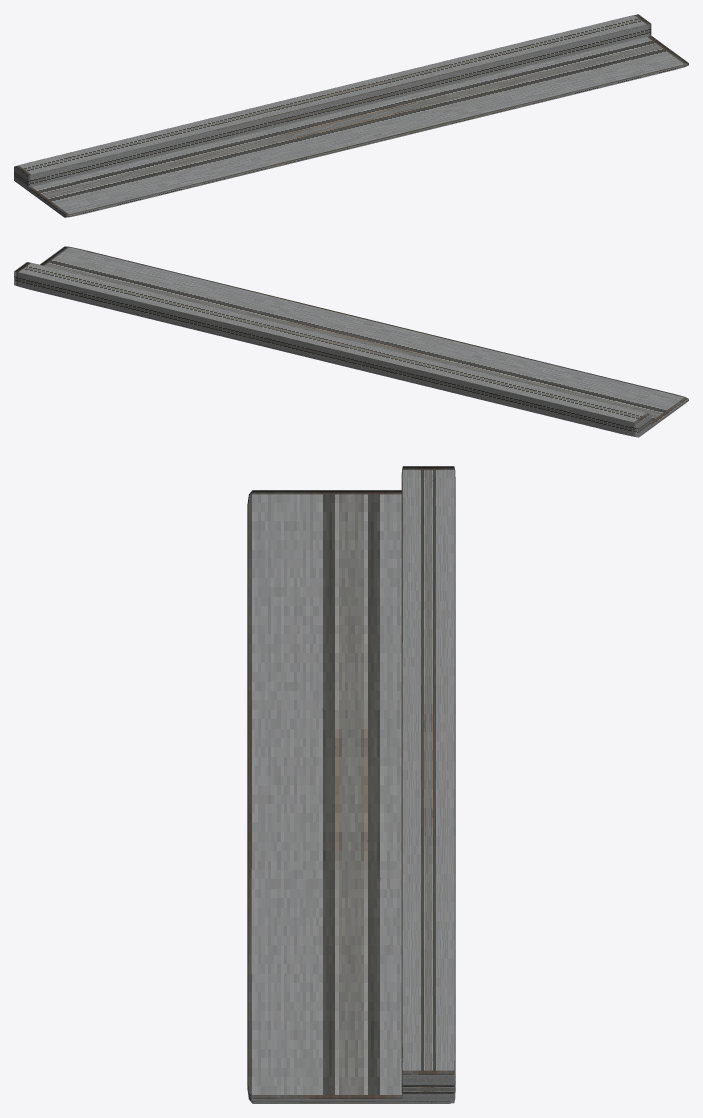
File: threshold.glb
3 views of the same model, one above another, from view 1: azimuth 30°, elevation 25°; view 2: azimuth 150°, elevation 25°; view 3: azimuth 270°, elevation 25° (orthographic). The views are drawn at different scales.
Visible parts, largest first — view 1: return, web; view 2: return, web; view 3: return, web.
Part boxes in pixels (x1,y1,x2,y2): return: [15, 35, 688, 217]; web: [14, 14, 651, 189]; return: [28, 246, 688, 437]; web: [14, 262, 651, 437]; return: [247, 490, 450, 1103]; web: [401, 466, 455, 1103].
Bounding box in the file's own units: 0.9 × 0.02 × 0.13.
Materials: 1 (1 with a texture image).
